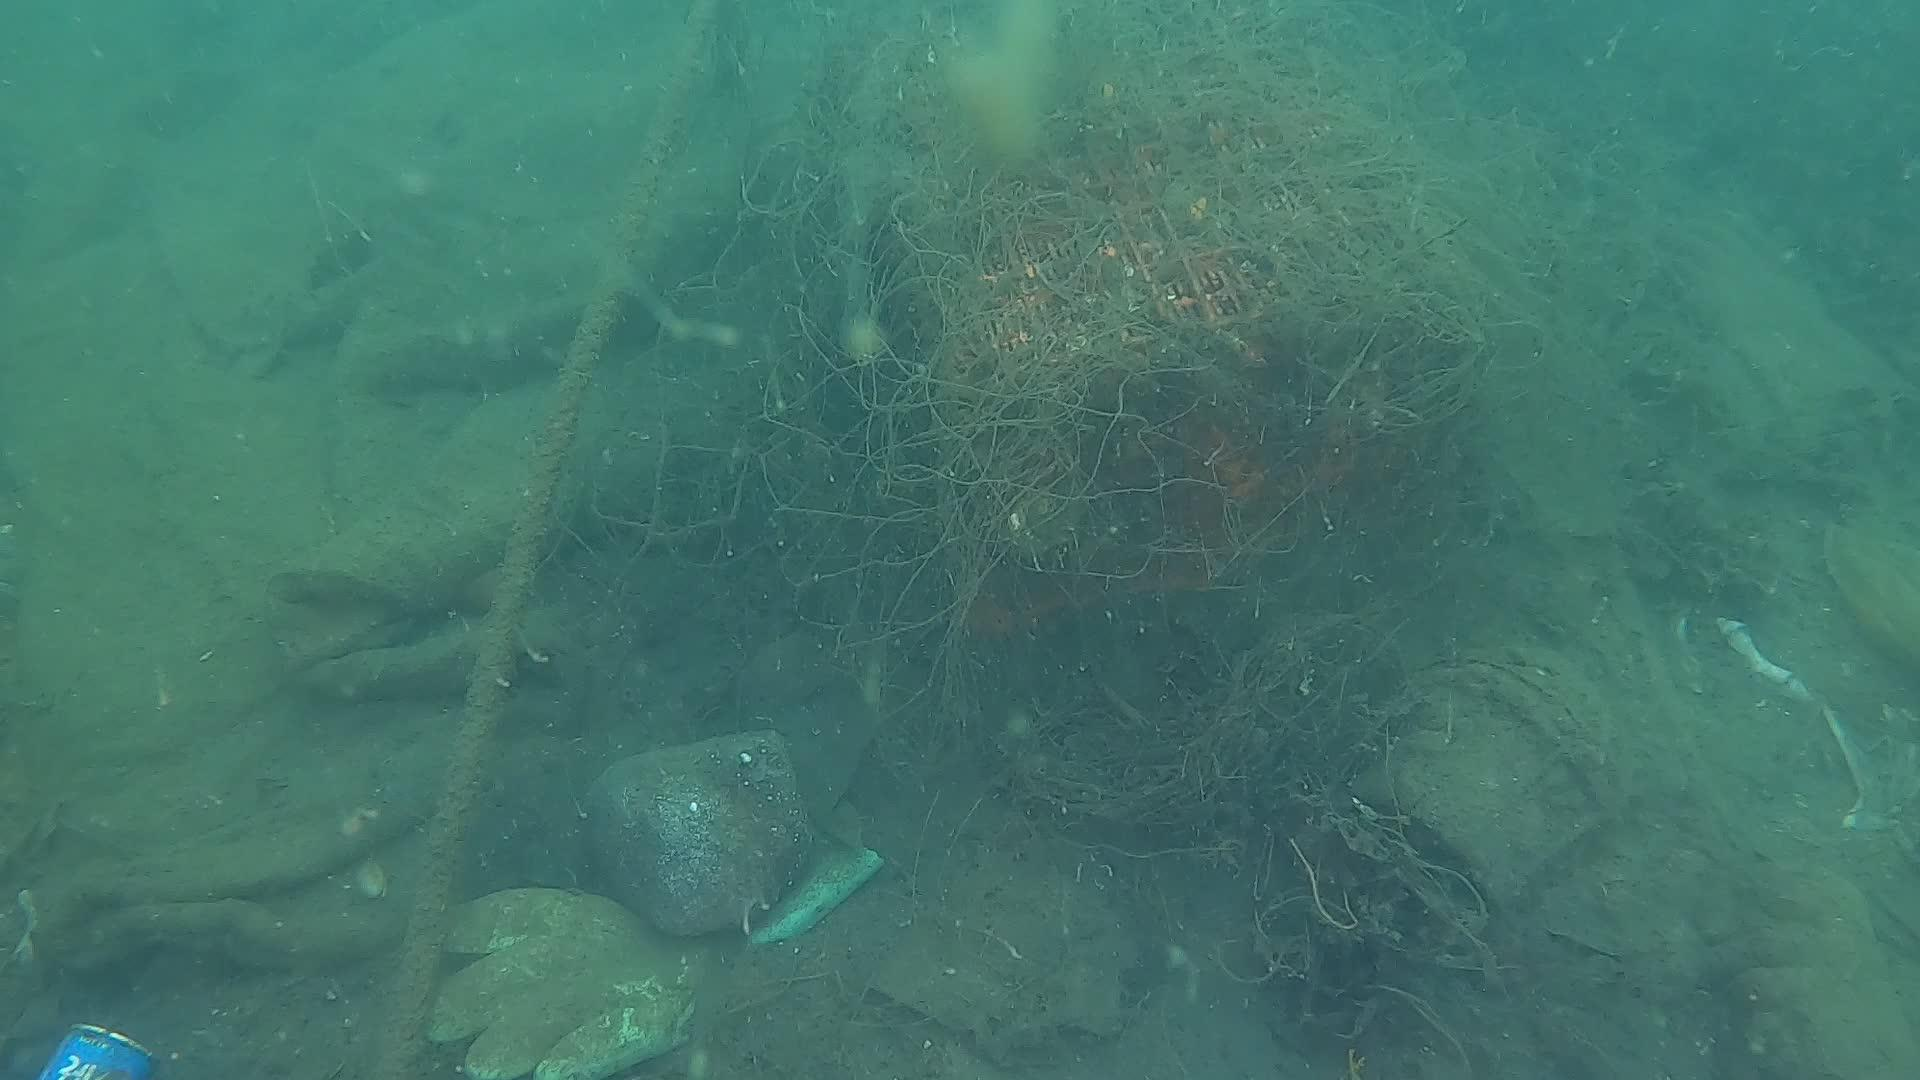rope: (381, 0, 720, 1080)
